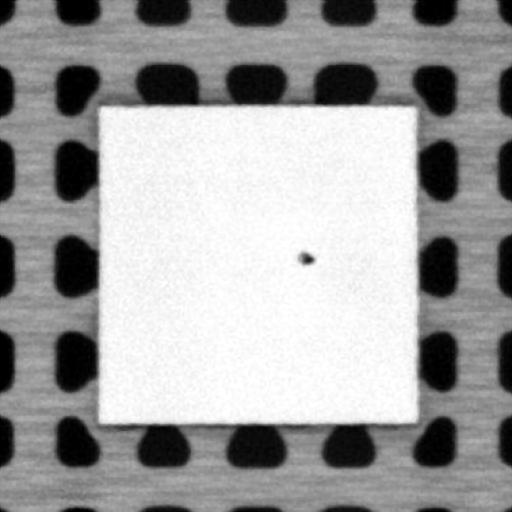DIE_INK: (296, 246, 314, 265)
